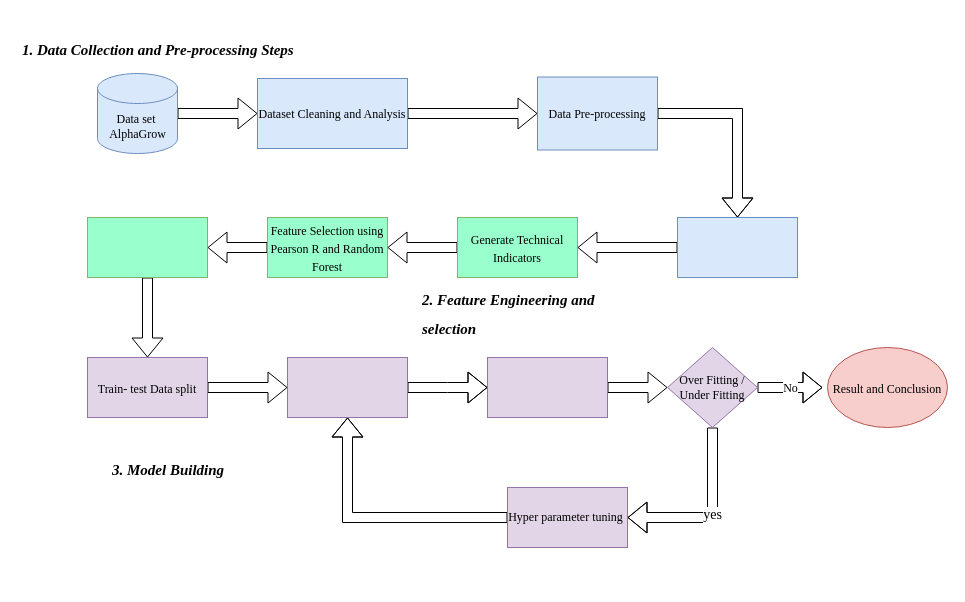
Image size: 965x602. Some labels were removed from this diagram. The centre of each missing label's shape, as x and y in pixels:
Build and train model: [347,387]
Evaluate Model Performance: [547,387]
Exploratory Data Analysis: [737,247]
Normalize data using min max scaler: [147,247]
